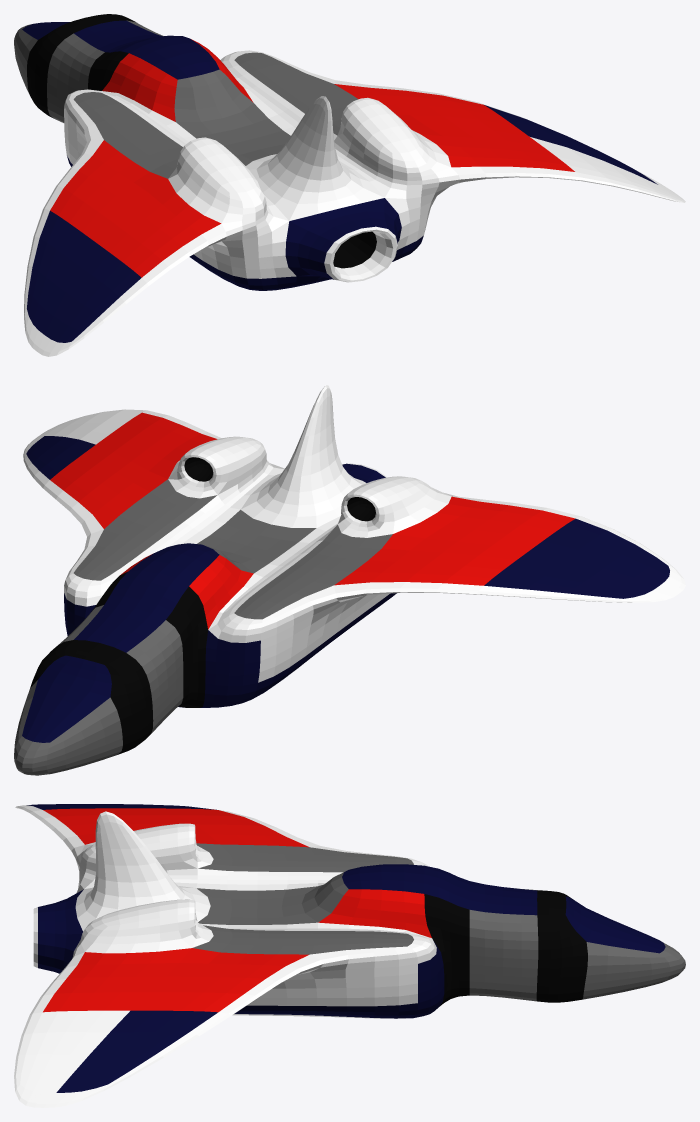
Rendered from nave_jogador_arredondadoV2.gltf.
The picture shows the model from 3 angles, top to bottom: view 1: azimuth 30°, elevation 25°; view 2: azimuth 150°, elevation 25°; view 3: azimuth 270°, elevation 25°; orthographic projection. The views are drawn at different scales.
Visible parts, largest first — view 1: Cube; view 2: Cube; view 3: Cube.
Boxes of the visible parts, <box> form: Cube: <box>14,14,685,356</box>; Cube: <box>14,385,685,775</box>; Cube: <box>14,804,685,1107</box>.
Size of the model in its own units: 11.83 by 3.42 by 11.23.
